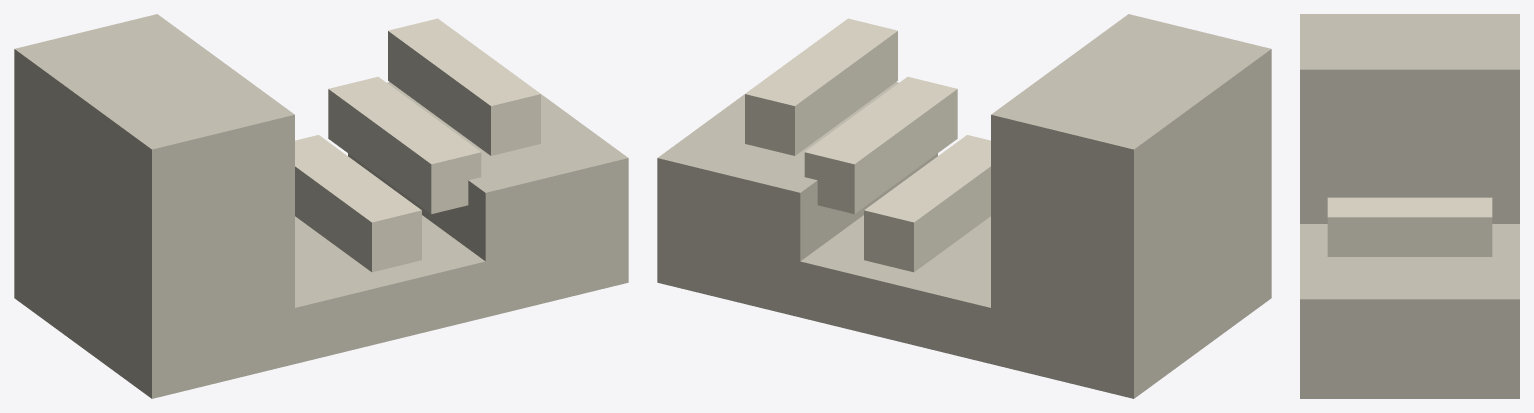
File: curtain-breached-low.glb
The picture shows the model from 3 angles, left to right: view 1: azimuth 30°, elevation 25°; view 2: azimuth 150°, elevation 25°; view 3: azimuth 270°, elevation 25°; orthographic projection. The views are drawn at different scales.
Visible parts, largest first — view 1: curtain-breached-low; view 2: curtain-breached-low; view 3: curtain-breached-low.
Part boxes in pixels (<box>): curtain-breached-low: <box>14,14,628,398</box>; curtain-breached-low: <box>657,14,1271,398</box>; curtain-breached-low: <box>1300,14,1519,398</box>.
Size of the model in its own units: 4 by 2 by 2.
